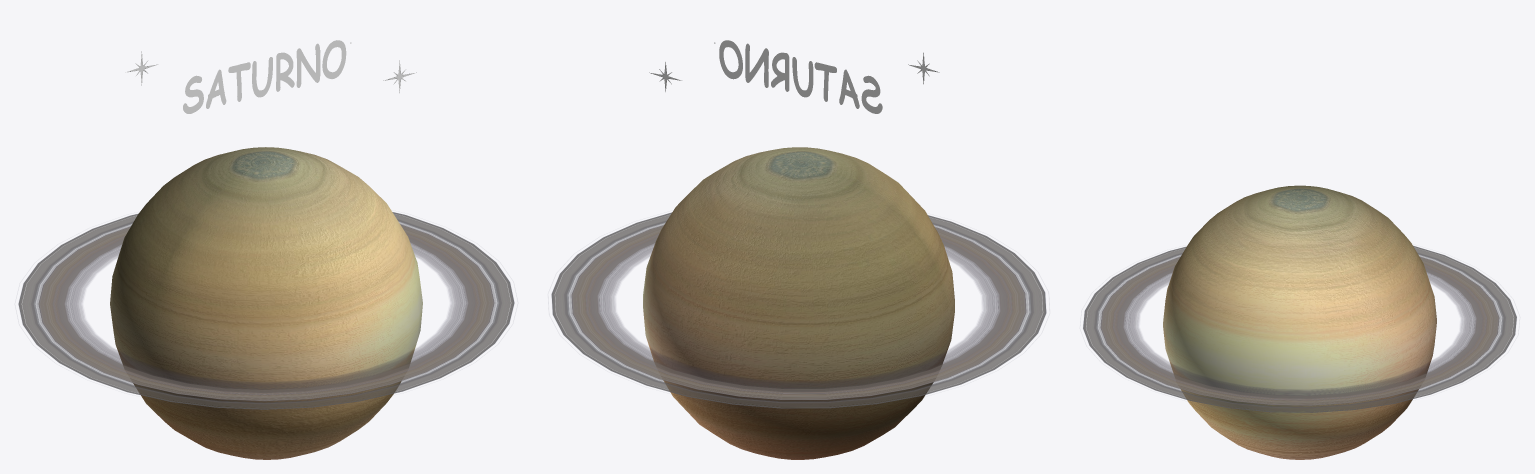
File: saturno.glb
3 views of the same model, side by side, from view 1: azimuth 30°, elevation 25°; view 2: azimuth 150°, elevation 25°; view 3: azimuth 270°, elevation 25° (orthographic). The views are drawn at different scales.
Parts seen in each view (by area): view 1: Terra.007, saturnoAnel, Letra; view 2: Terra.007, saturnoAnel, Letra; view 3: Terra.007, saturnoAnel.
Part boxes in pixels (box(x1,y1,x2,y2)): Terra.007: box(110, 147, 422, 459); saturnoAnel: box(18, 212, 514, 409); Letra: box(183, 40, 351, 113); Terra.007: box(643, 147, 954, 459); saturnoAnel: box(551, 212, 1046, 408); Letra: box(714, 40, 882, 113); Terra.007: box(1163, 185, 1436, 459); saturnoAnel: box(1083, 245, 1516, 412).
Size of the model in its own units: 2.1 by 1.95 by 2.1.
3 materials, 3 textured.
